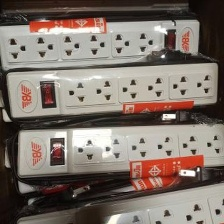three_eye_plug: (3, 59, 221, 121), (13, 119, 224, 183), (0, 14, 205, 73), (14, 175, 224, 224)
